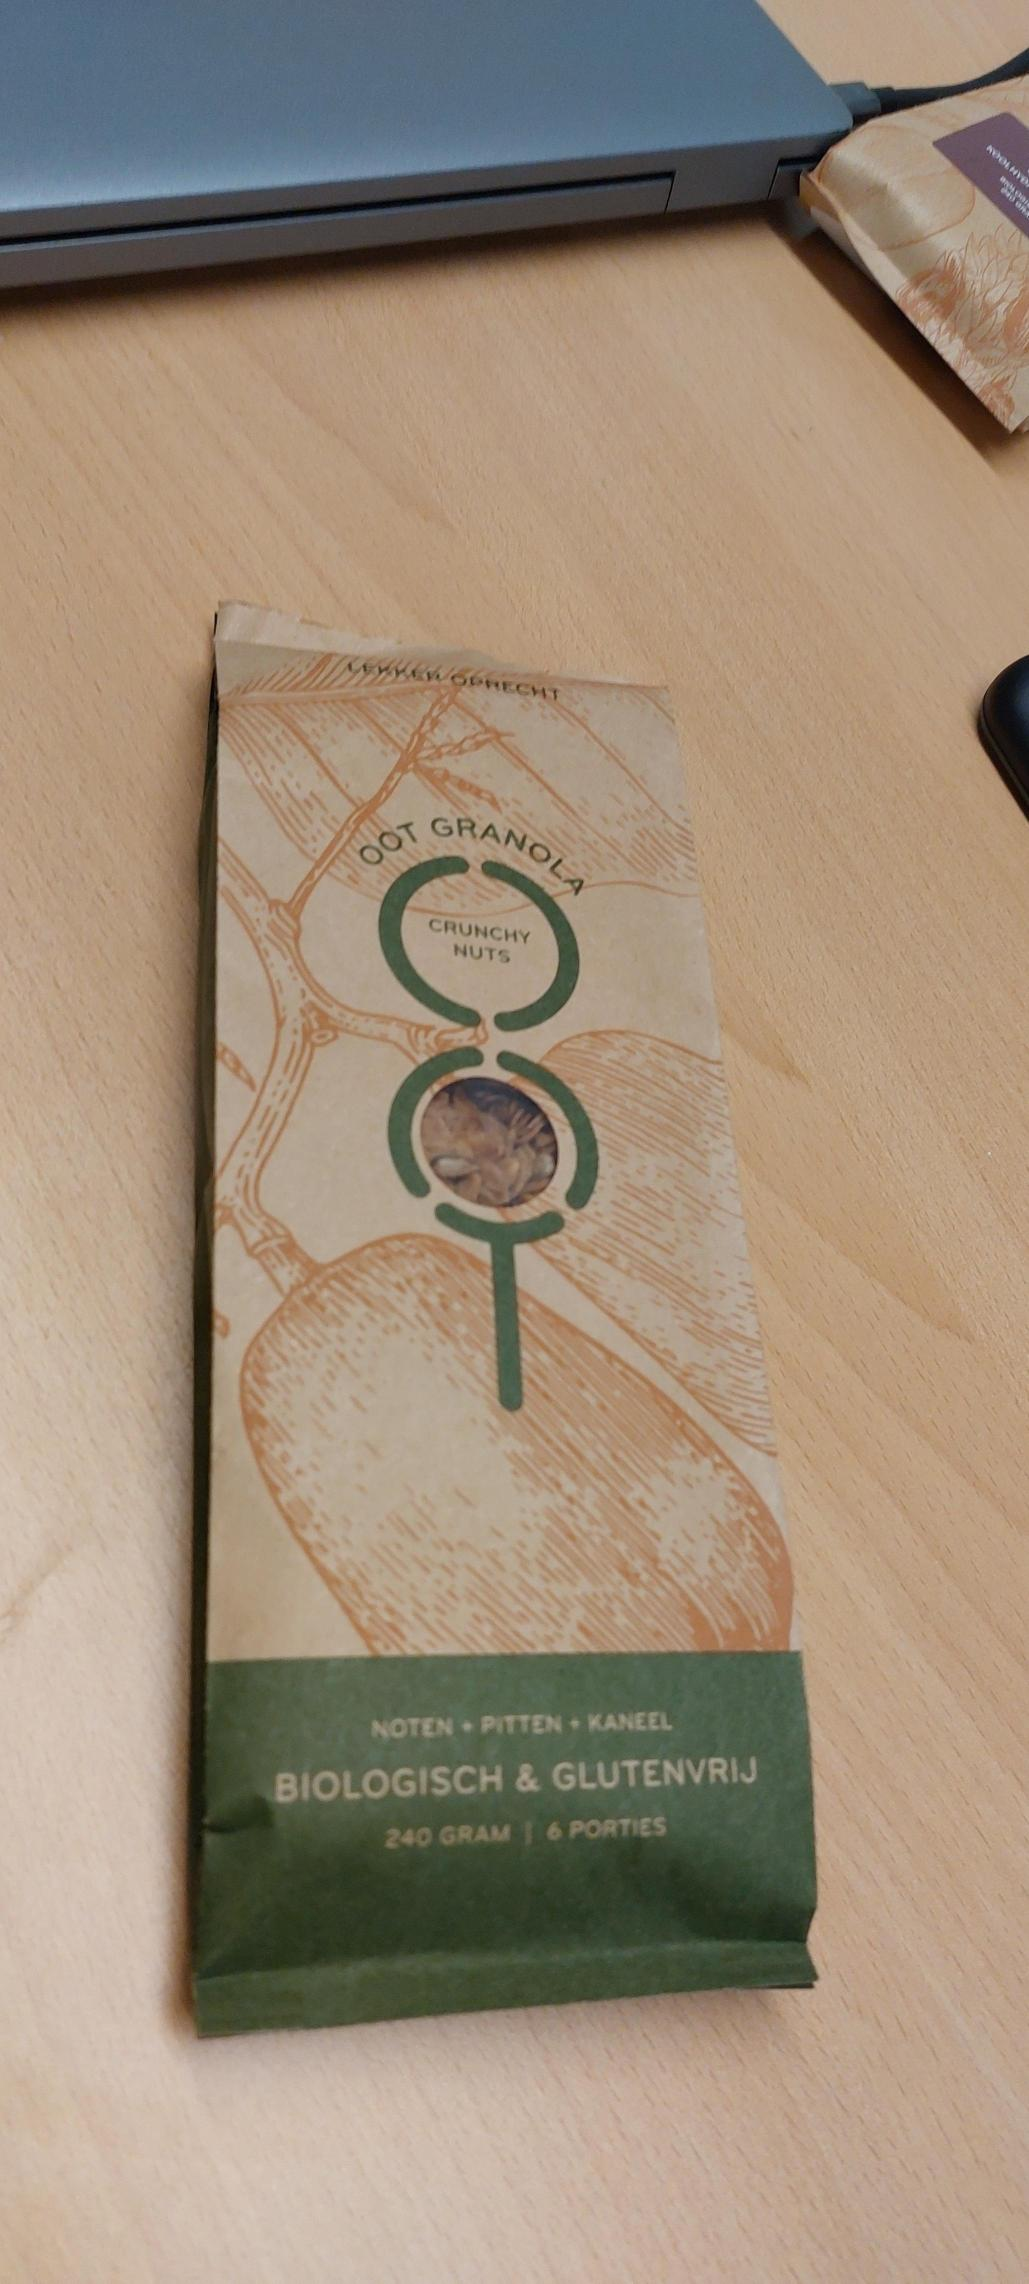CrunchyNuts: (239, 623, 790, 1968)
